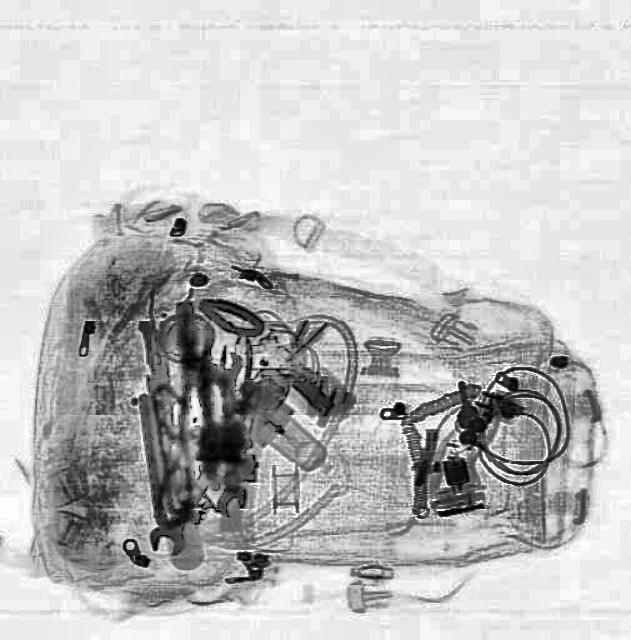Pliers: (166, 298, 222, 490)
Wrench: (144, 464, 220, 560), (208, 351, 246, 517)
